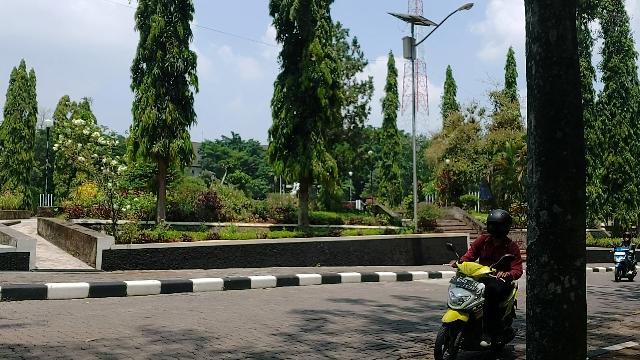helm: (487, 210, 514, 241), (623, 233, 633, 244)
motor: (434, 243, 520, 360), (610, 244, 638, 283)
